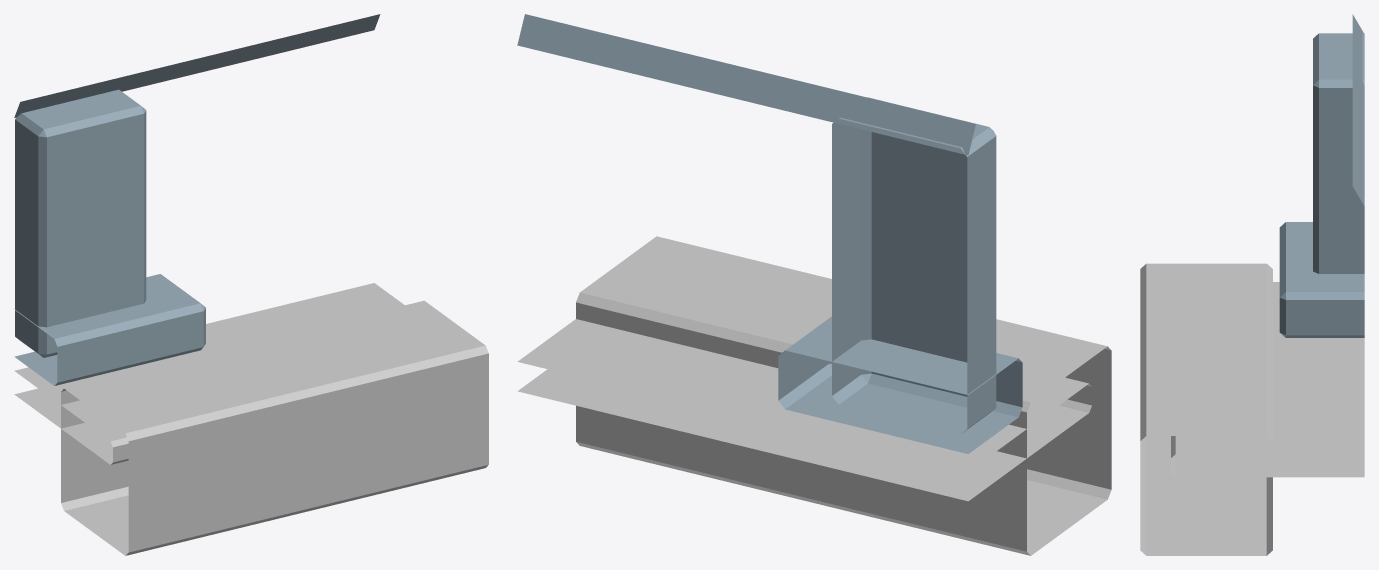
Rendered from cell_15.obj.
3 views of the same model, side by side, from view 1: azimuth 30°, elevation 25°; view 2: azimuth 150°, elevation 25°; view 3: azimuth 270°, elevation 25° (orthographic). The views are drawn at different scales.
Bounding box in the file's own units: 1 × 1 × 0.55.
